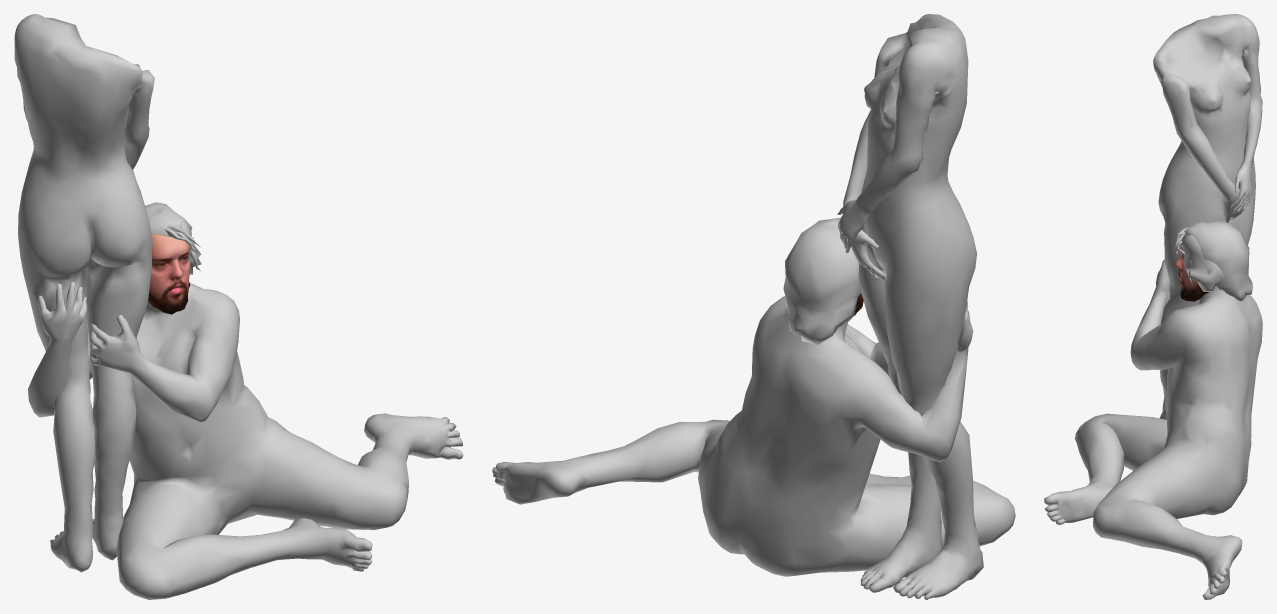
The picture shows the model from 3 angles, left to right: view 1: azimuth 30°, elevation 25°; view 2: azimuth 150°, elevation 25°; view 3: azimuth 270°, elevation 25°; orthographic projection. The views are drawn at different scales.
Visible parts, largest first — view 1: Group1.002_Group1.003, Body.004_Body.005, Cube.001, Sphere; view 2: Group1.002_Group1.003, Body.004_Body.005, Sphere; view 3: Group1.002_Group1.003, Body.004_Body.005, Sphere, Icosphere.002, Cube.001.
Part boxes in pixels (box(x1,y1,x2,y2)): Group1.002_Group1.003: box(28, 282, 463, 599); Body.004_Body.005: box(14, 14, 154, 572); Cube.001: box(148, 234, 190, 314); Sphere: box(145, 202, 192, 261); Group1.002_Group1.003: box(492, 296, 1015, 576); Body.004_Body.005: box(837, 14, 983, 599); Sphere: box(783, 217, 861, 344); Group1.002_Group1.003: box(1044, 259, 1262, 599); Body.004_Body.005: box(1153, 14, 1262, 419); Sphere: box(1184, 220, 1252, 301); Icosphere.002: box(1181, 234, 1225, 291); Cube.001: box(1175, 246, 1208, 301).
Size of the model in its own units: 19.03 by 22.08 by 10.26.
